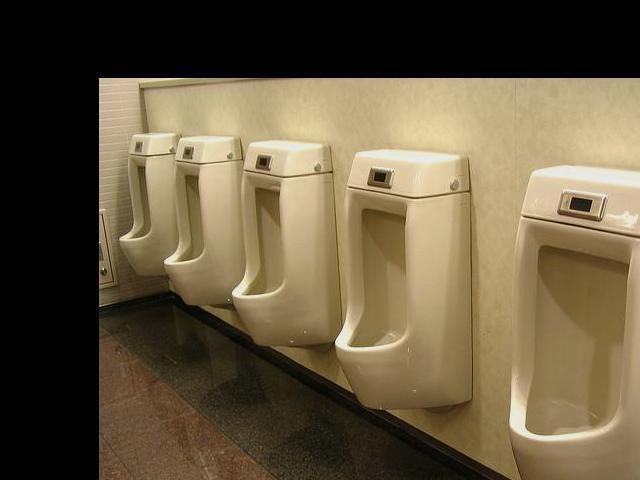Sanitario: (507, 167, 640, 480), (331, 151, 469, 432), (228, 138, 333, 358), (165, 127, 243, 310), (117, 117, 177, 287)
